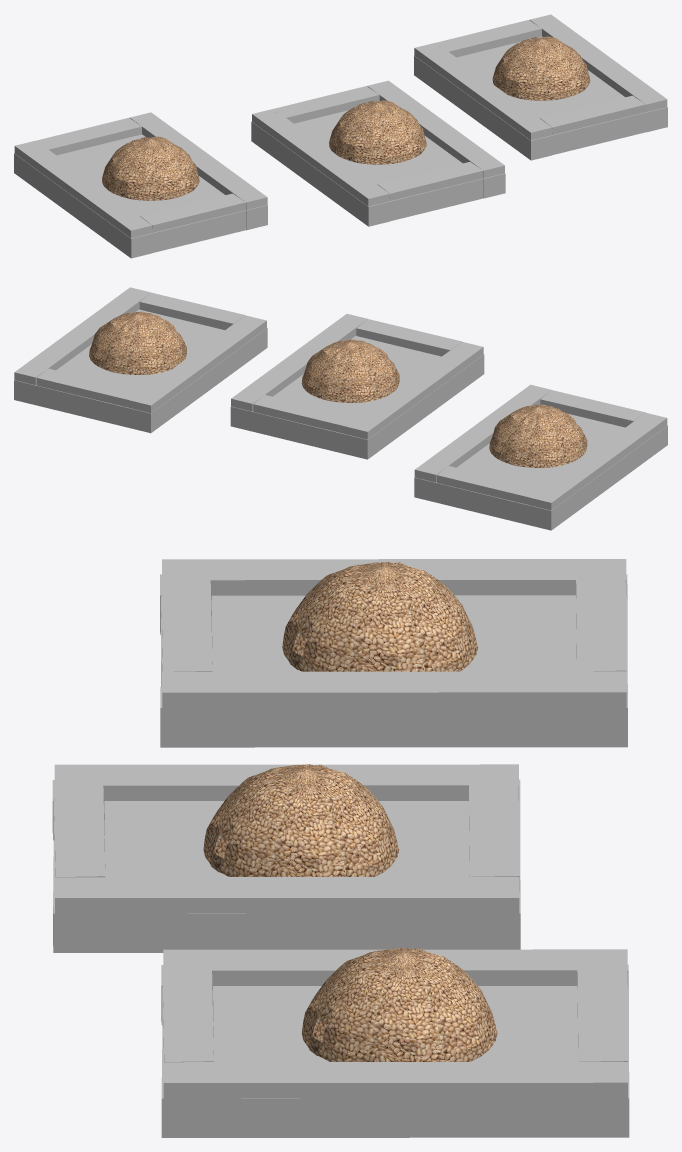
The model's file is FrijolesTianguis.obj.
3 renders of one model, top to bottom at view 1: azimuth 30°, elevation 25°; view 2: azimuth 150°, elevation 25°; view 3: azimuth 270°, elevation 25°, orthographic. The views are drawn at different scales.
Parts seen in each view (by area): view 1: Cubo.013_Material, Cubo.013_Material.002; view 2: Cubo.013_Material, Cubo.013_Material.002; view 3: Cubo.013_Material, Cubo.013_Material.002.
Boxes of the visible parts, box(x1,y1,x2,y2) form: Cubo.013_Material: box(14, 14, 667, 258); Cubo.013_Material.002: box(102, 36, 590, 200); Cubo.013_Material: box(14, 287, 667, 530); Cubo.013_Material.002: box(89, 311, 587, 467); Cubo.013_Material: box(52, 559, 629, 1137); Cubo.013_Material.002: box(203, 562, 497, 1061).
Size of the model in its own units: 2.44 by 0.2627 by 1.13.
